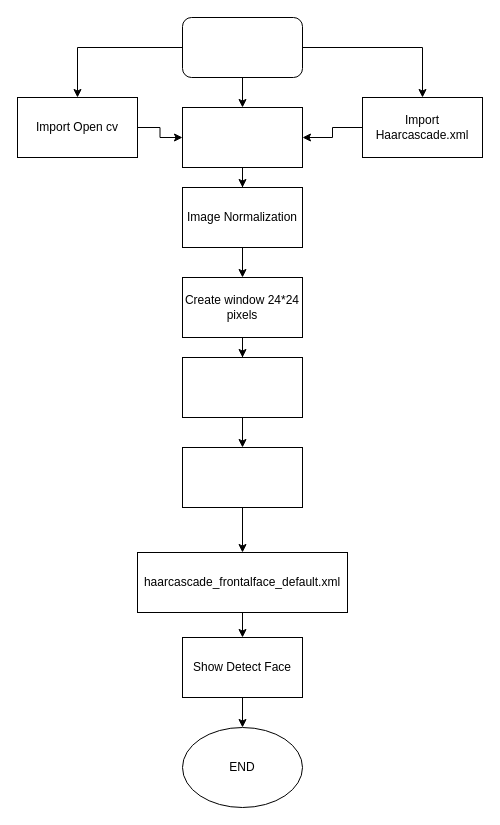
Some shapes in this 500 by 825 pixel diagram are drawn without their labels. Each missing label, with the box of its shape:
Apply Haar like Feature Type (A-B-C-D-E): (182, 446, 302, 508)
Convert Integral Image: (182, 356, 302, 418)
Read Video/image: (182, 106, 302, 168)
Start: (182, 16, 302, 78)
